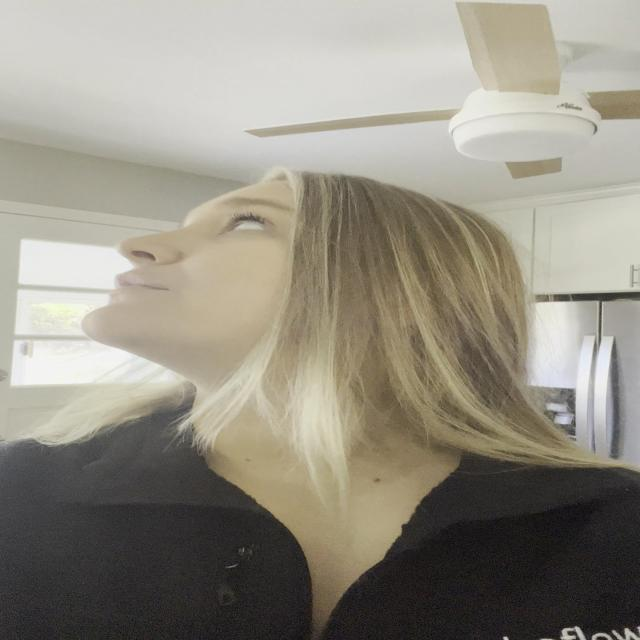no-helmet: (78, 178, 302, 358)
